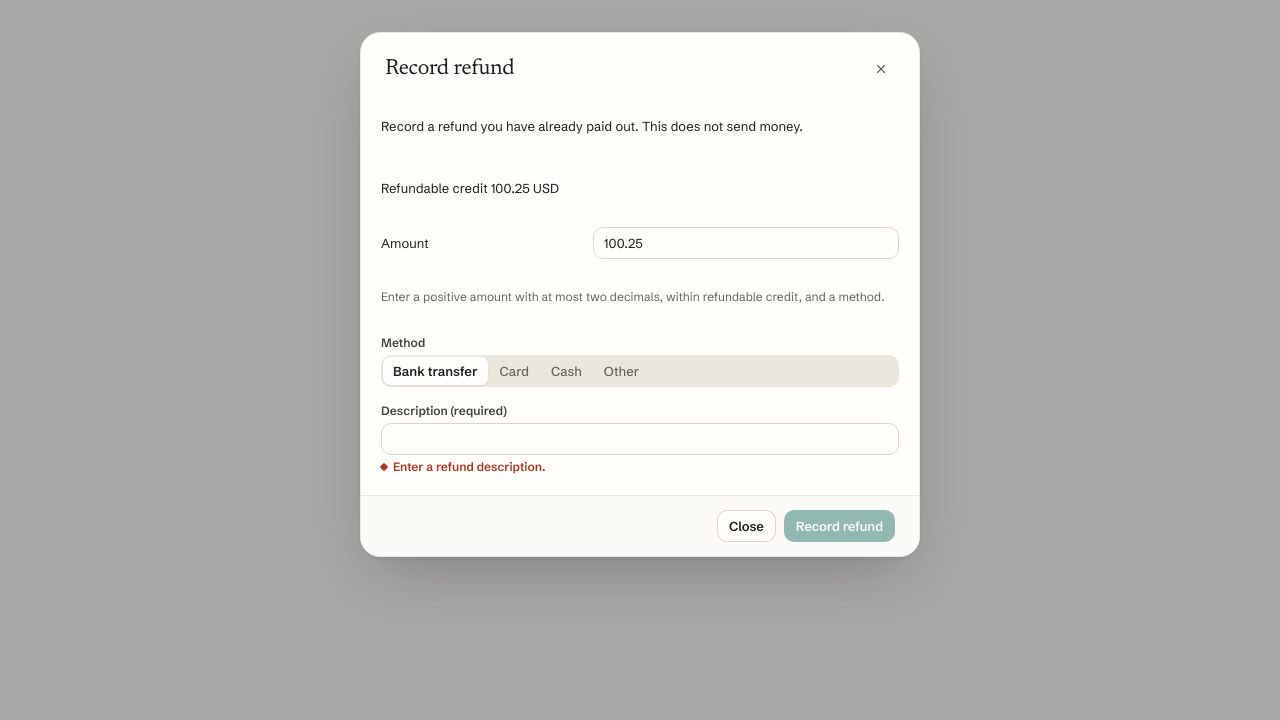
Test: refunds › asks to check Recorded refunds when the limit after a conflict cannot be read
Type "Returned deposit" into the field labelled "refund description".
click(640, 439); type("Returned deposit")  # box [381,423,899,455]
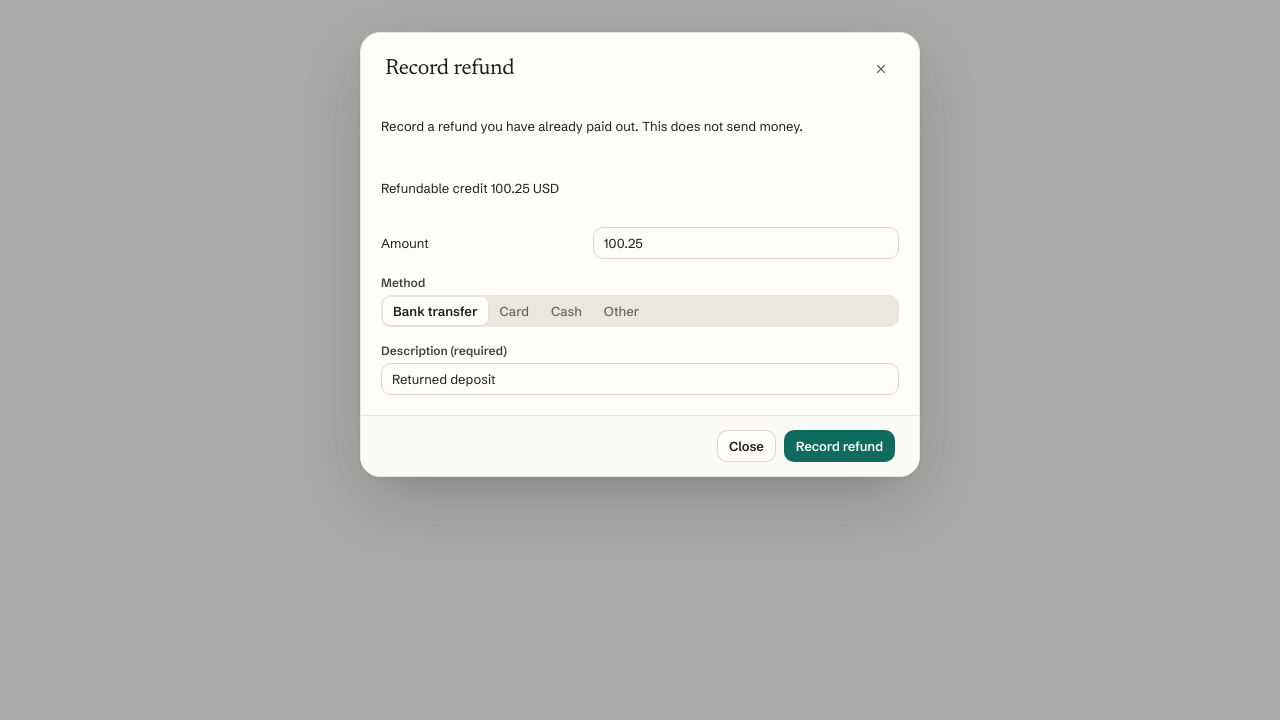
Click the button "Record refund".
click(839, 446)  # box [784,430,895,462]
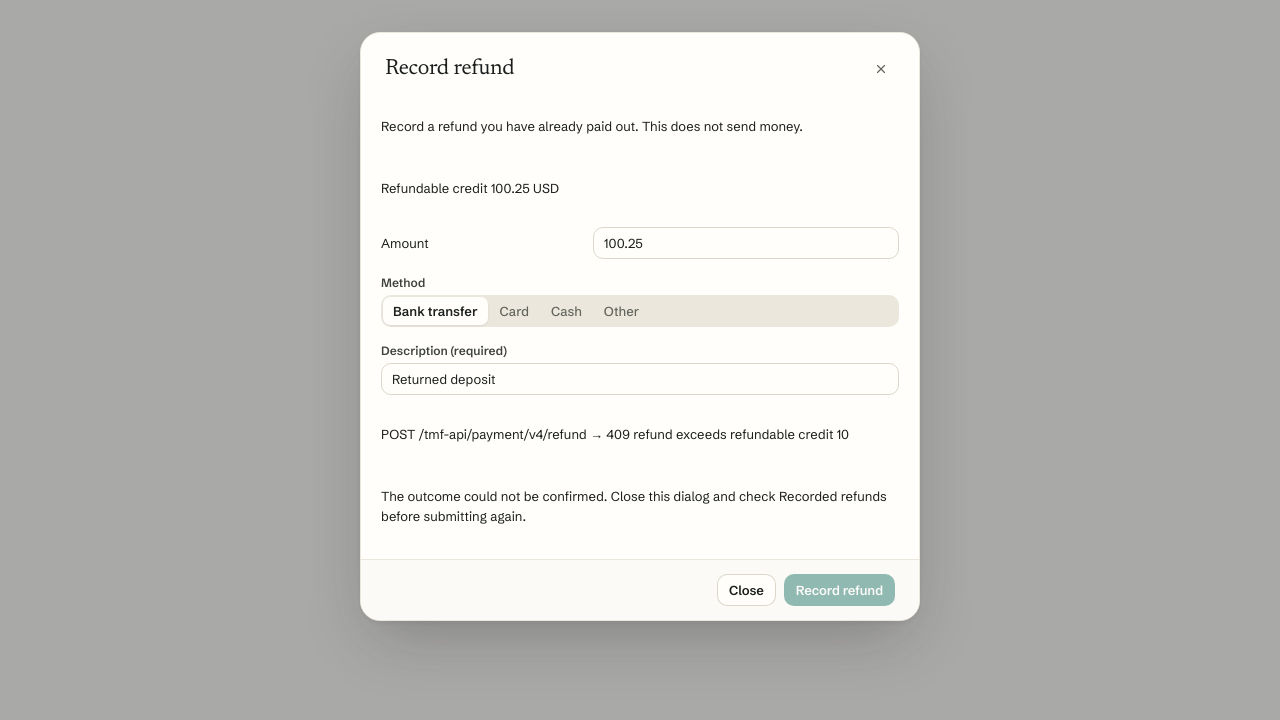
Expected: the text "check Recorded refunds" is shown, [381,488,887,524]
Expected: the text "POST /tmf-api/payment/v4/refund → 409 refund exceeds refundable credit 10" is shown, [381,424,899,444]
Expected: the button "Record refund" is disabled, [784,574,895,606]
